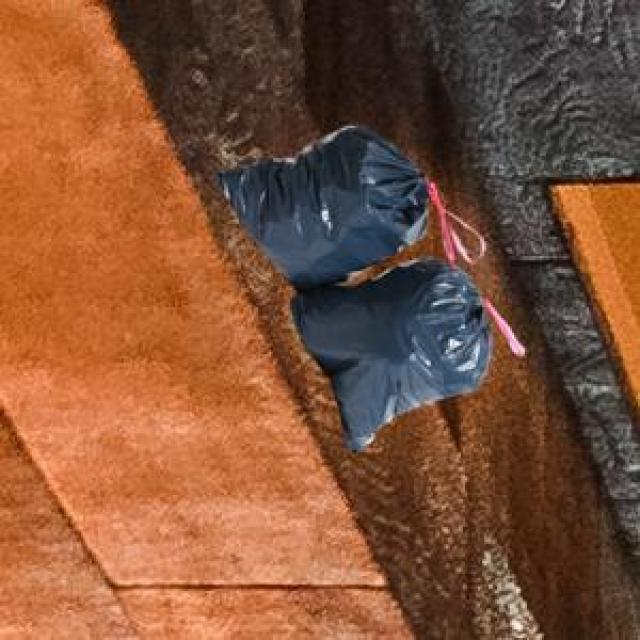waste: (219, 126, 491, 451)
